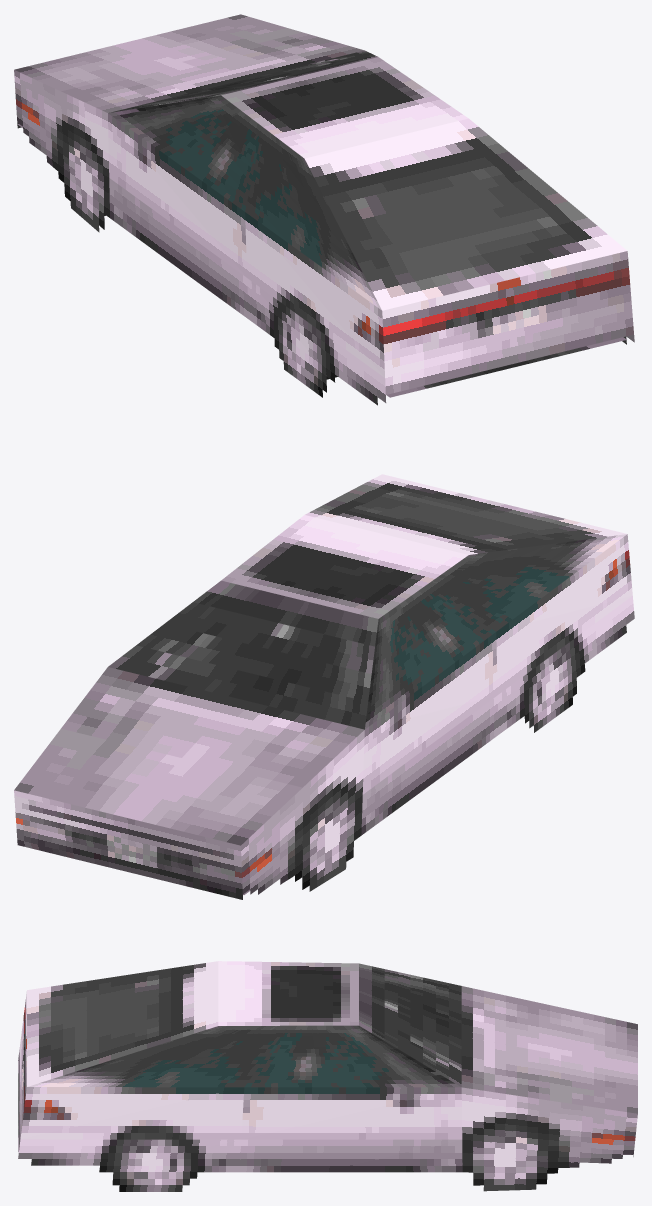
File: car-probe.glb
3 renders of one model, top to bottom at view 1: azimuth 30°, elevation 25°; view 2: azimuth 150°, elevation 25°; view 3: azimuth 270°, elevation 25°, orthographic. The views are drawn at different scales.
Visible parts, largest first — view 1: plt0; view 2: plt0; view 3: plt0.
Part boxes in pixels (<box>): plt0: <box>14,14,634,405</box>; plt0: <box>14,474,634,899</box>; plt0: <box>18,961,637,1191</box>.
Bounding box in the file's own units: 1.73 × 1.19 × 4.51.
Materials: 13 (13 with a texture image).
